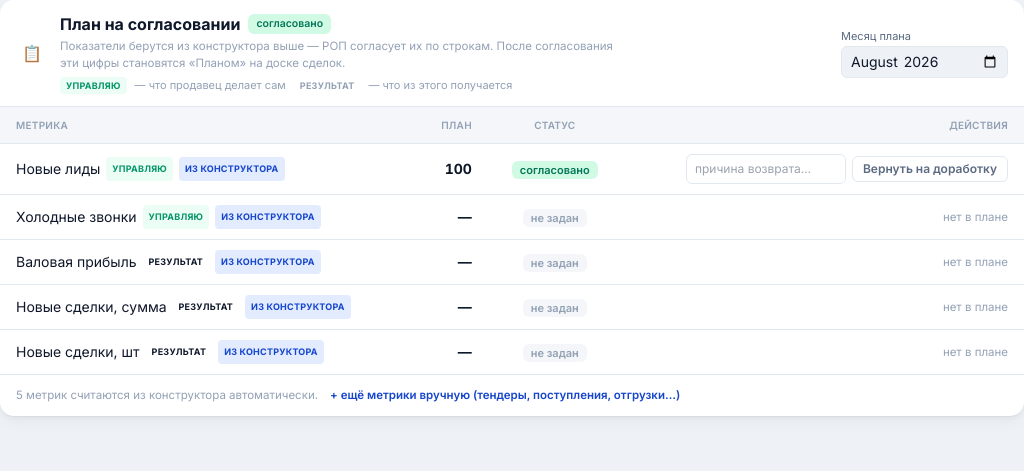
Test: DealPlanEditor › РОП: согласованную строку можно «Вернуть на доработку» → reopenPlan с причиной
Type "пересмотрим" into the field with placeholder "причина возврата…" at point(766, 169), box [686,154,846,184]
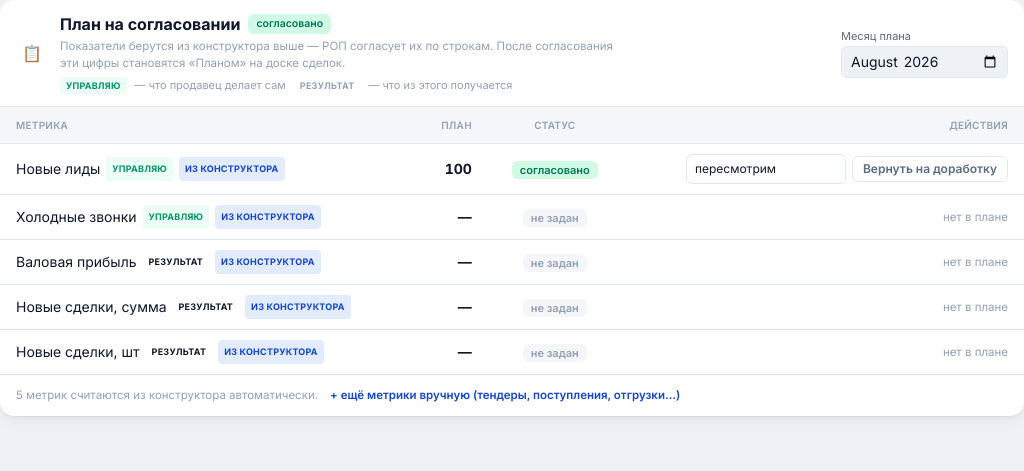
Click the button "Вернуть на доработку" at point(930, 169), box [852,156,1008,182]
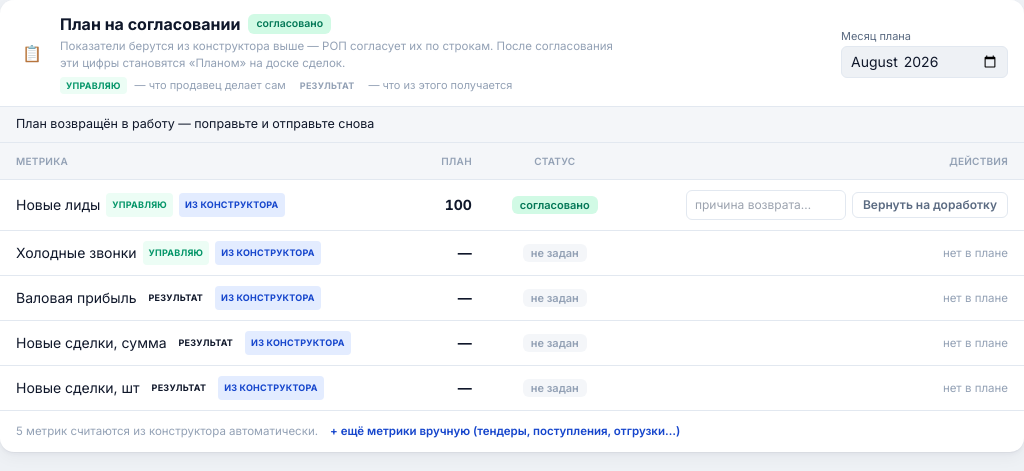
Now the text "План возвращён в работу — поправьте и отправьте снова" is shown, box [0,107,1023,143]
